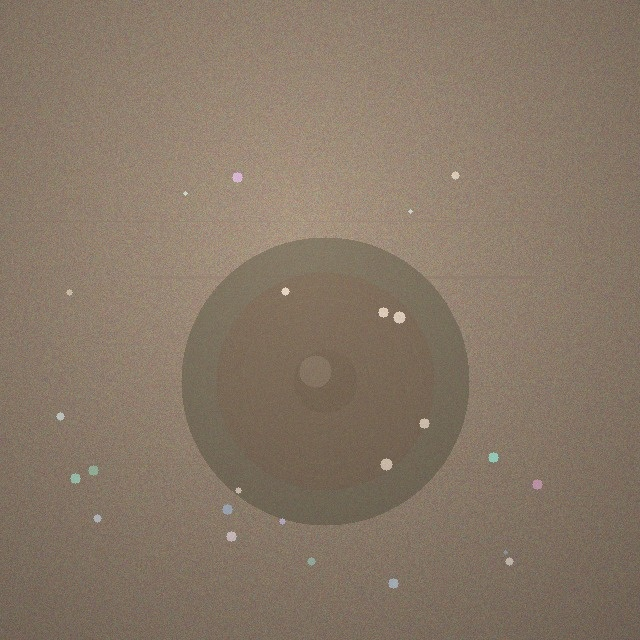overburn: (181, 237, 469, 525)
